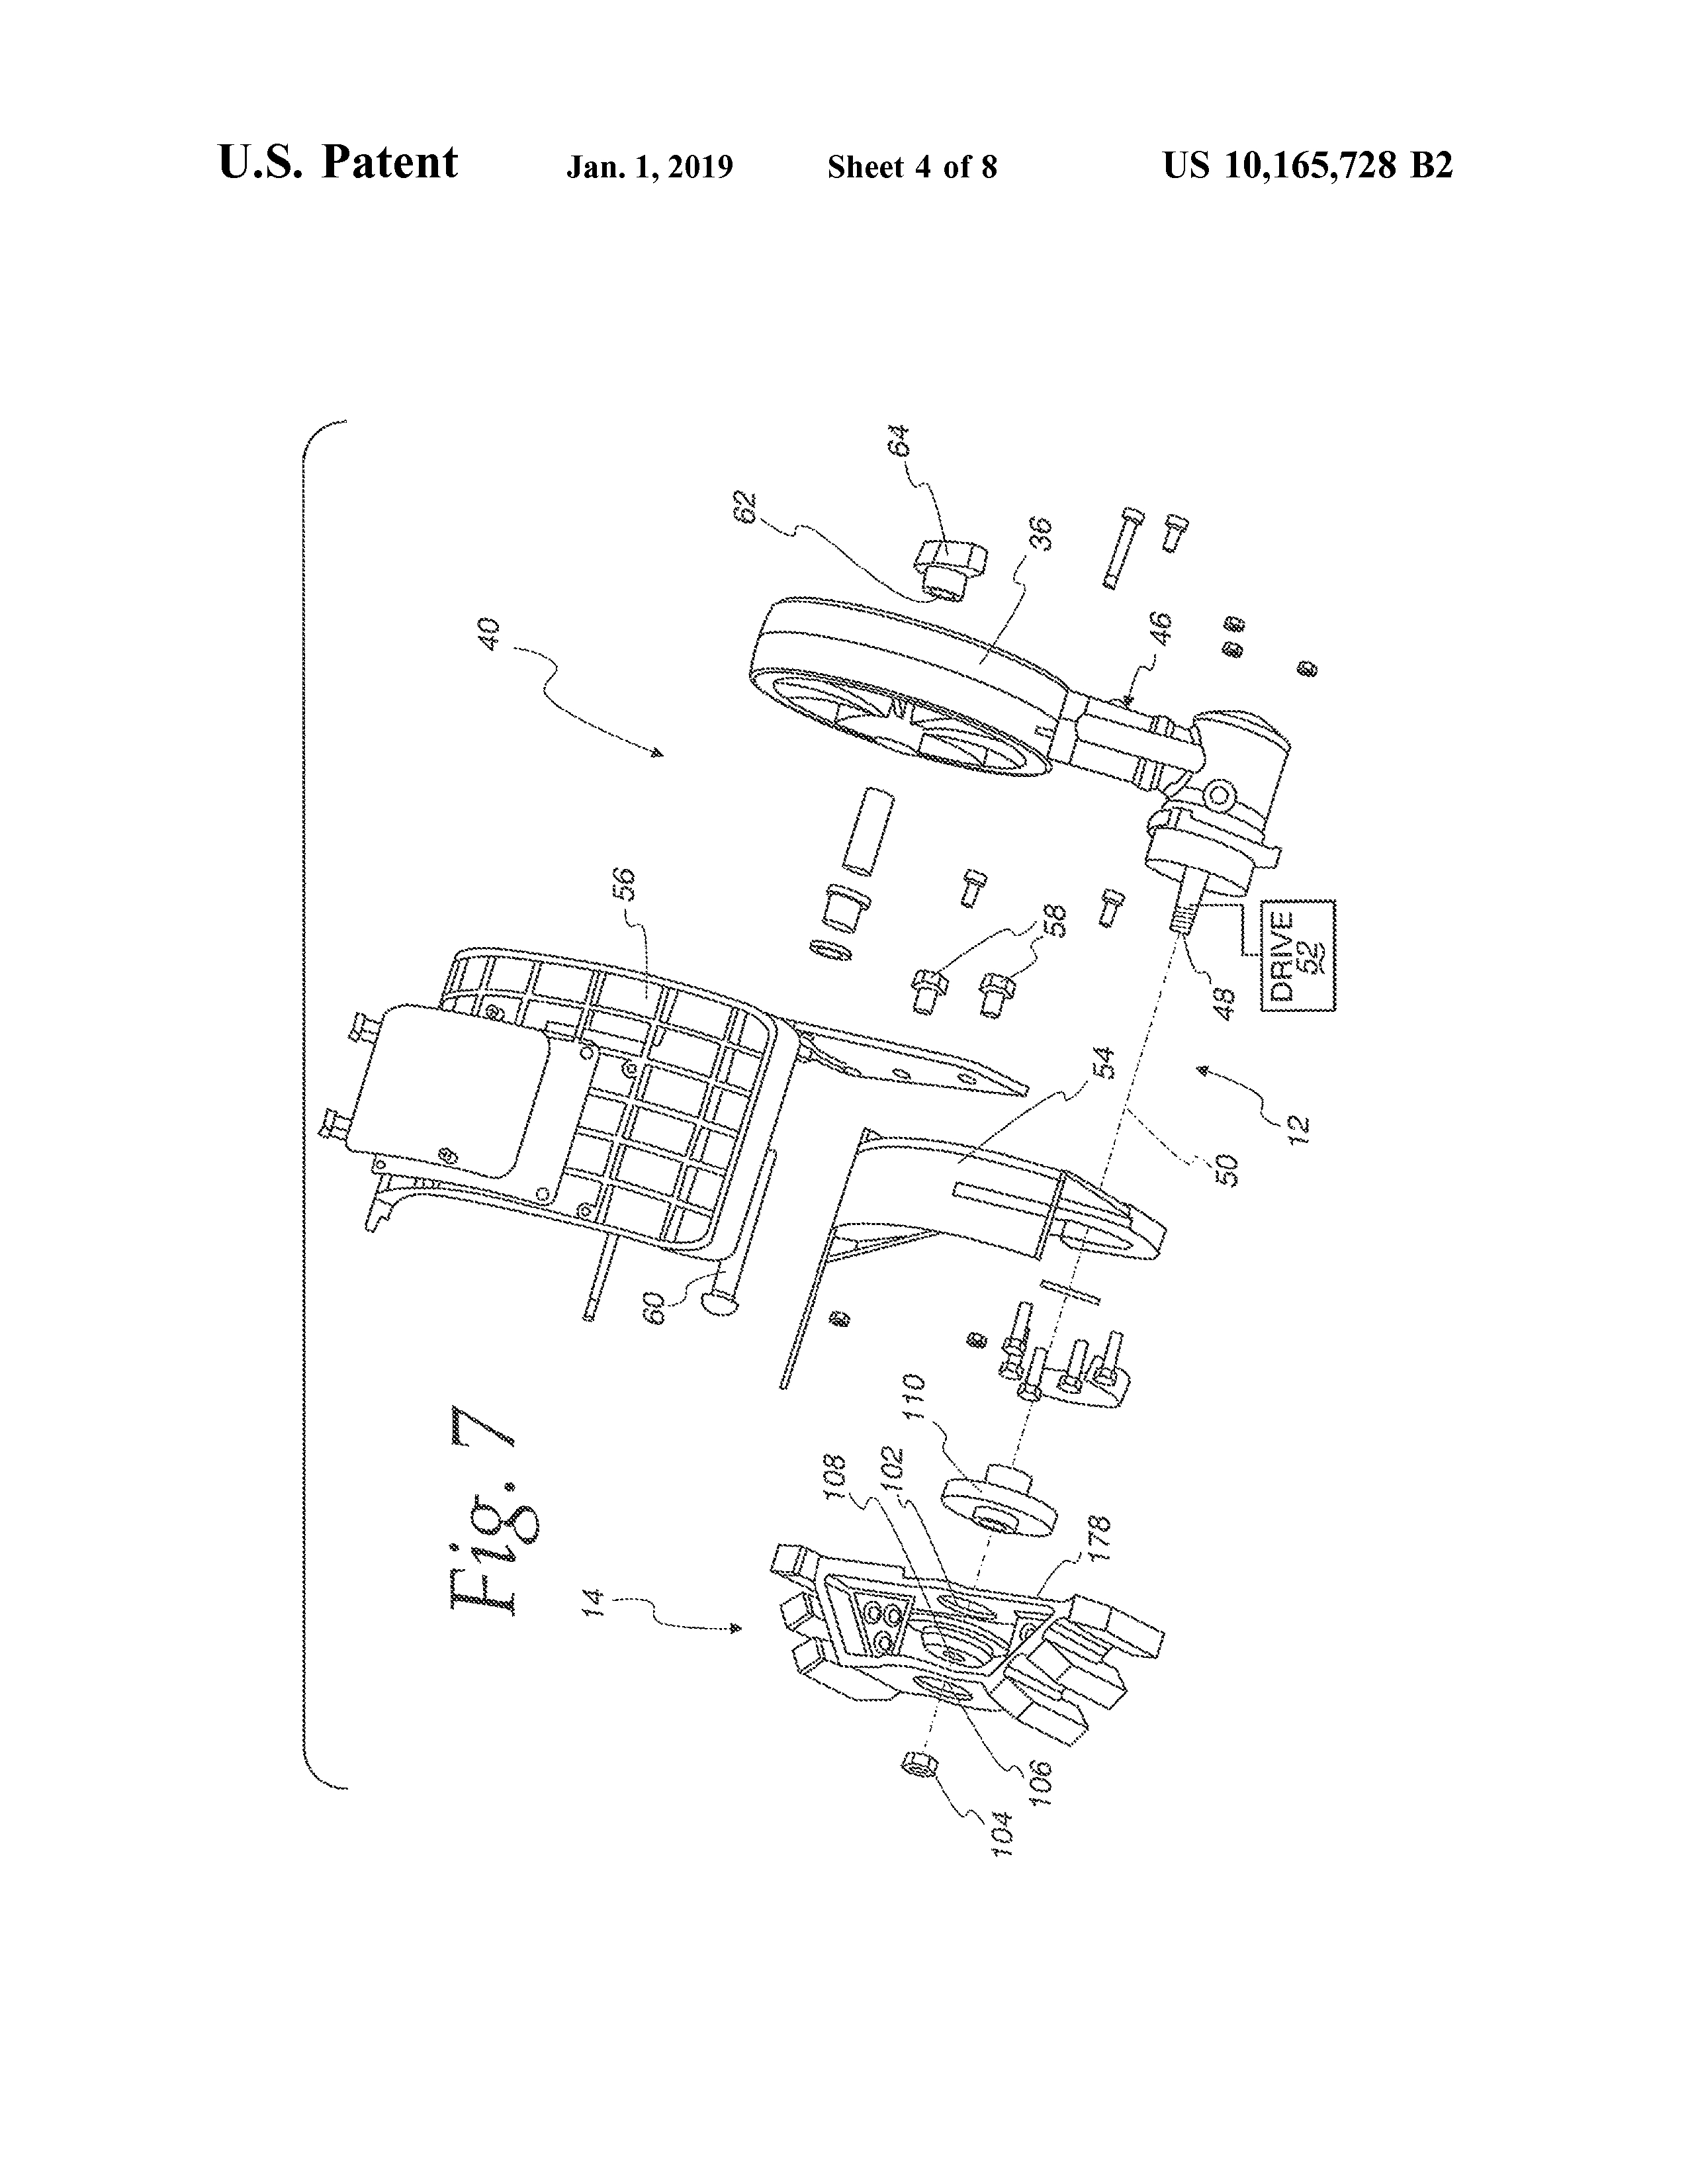patent image: (255, 354, 1406, 1934)
